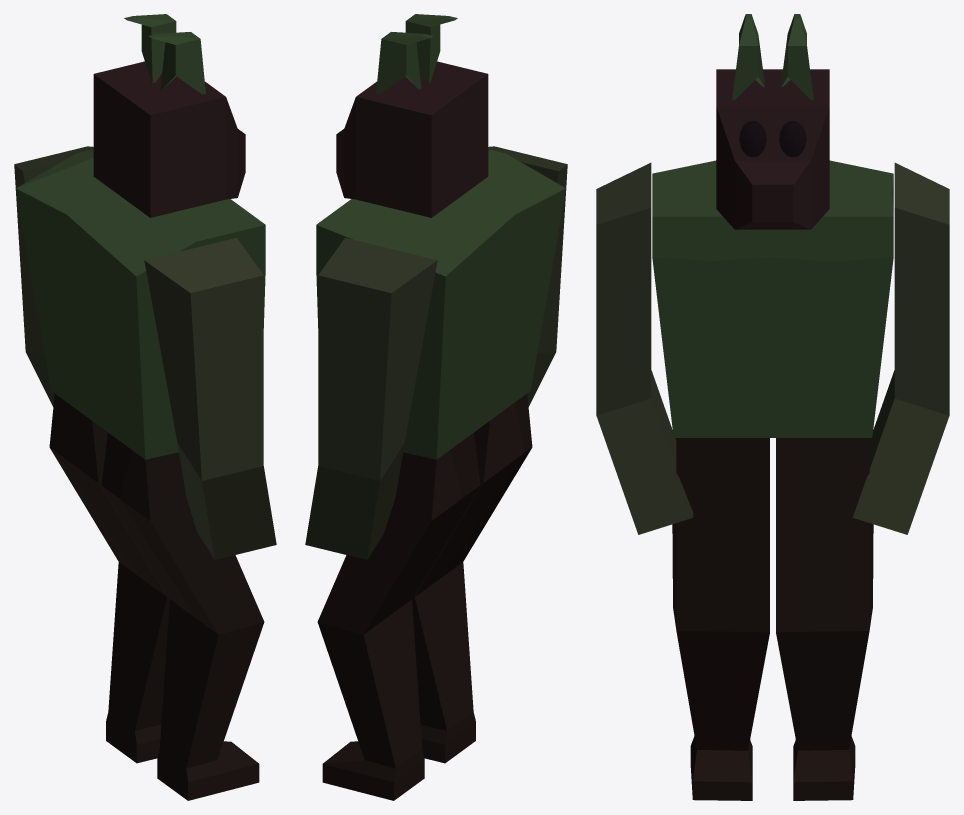
The model's file is Runner.fbx.
The picture shows the model from 3 angles, left to right: view 1: azimuth 30°, elevation 25°; view 2: azimuth 150°, elevation 25°; view 3: azimuth 270°, elevation 25°; orthographic projection.
Parts seen in each view (by area): view 1: Body, Arm R, Leg R, Head, Leg L, Cube, Arm L; view 2: Body, Arm L, Leg L, Head, Leg R, Cube, Arm R; view 3: Body, Leg L, Leg R, Arm L, Arm R, Head, Cube, Eyes.
Part boxes in pixels (x1,y1,x2,y2): Body: [16, 149, 265, 459]; Arm R: [144, 238, 276, 559]; Leg R: [101, 432, 264, 800]; Head: [93, 61, 245, 217]; Leg L: [49, 393, 169, 763]; Cube: [124, 14, 205, 94]; Arm L: [14, 146, 93, 406]; Body: [316, 149, 565, 459]; Arm L: [305, 238, 437, 559]; Leg L: [317, 432, 480, 800]; Head: [336, 61, 488, 217]; Leg R: [412, 393, 532, 763]; Cube: [376, 14, 457, 94]; Arm R: [488, 146, 567, 406]; Body: [652, 160, 893, 437]; Leg L: [776, 438, 873, 800]; Leg R: [672, 438, 769, 800]; Arm L: [852, 162, 949, 534]; Arm R: [596, 162, 693, 534]; Head: [716, 69, 829, 229]; Cube: [732, 14, 813, 100]; Eyes: [739, 120, 806, 157].
Bounding box in the file's own units: 162 × 682 × 293.
